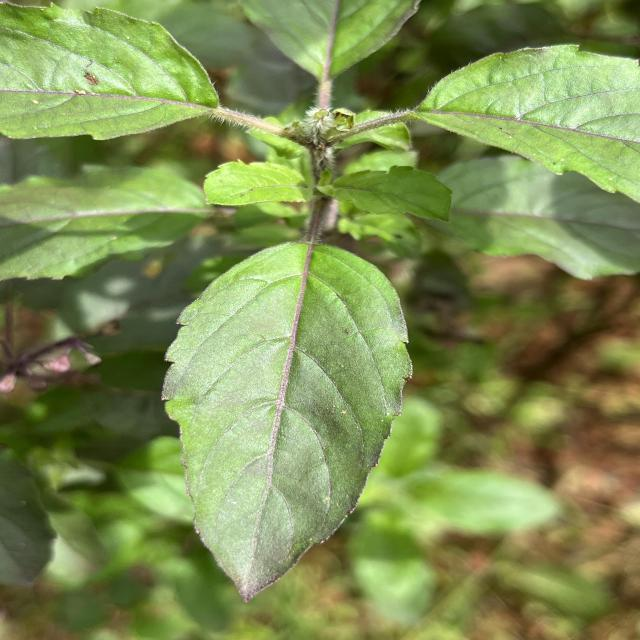Ocimum tenuiflorum: (152, 232, 422, 609)
